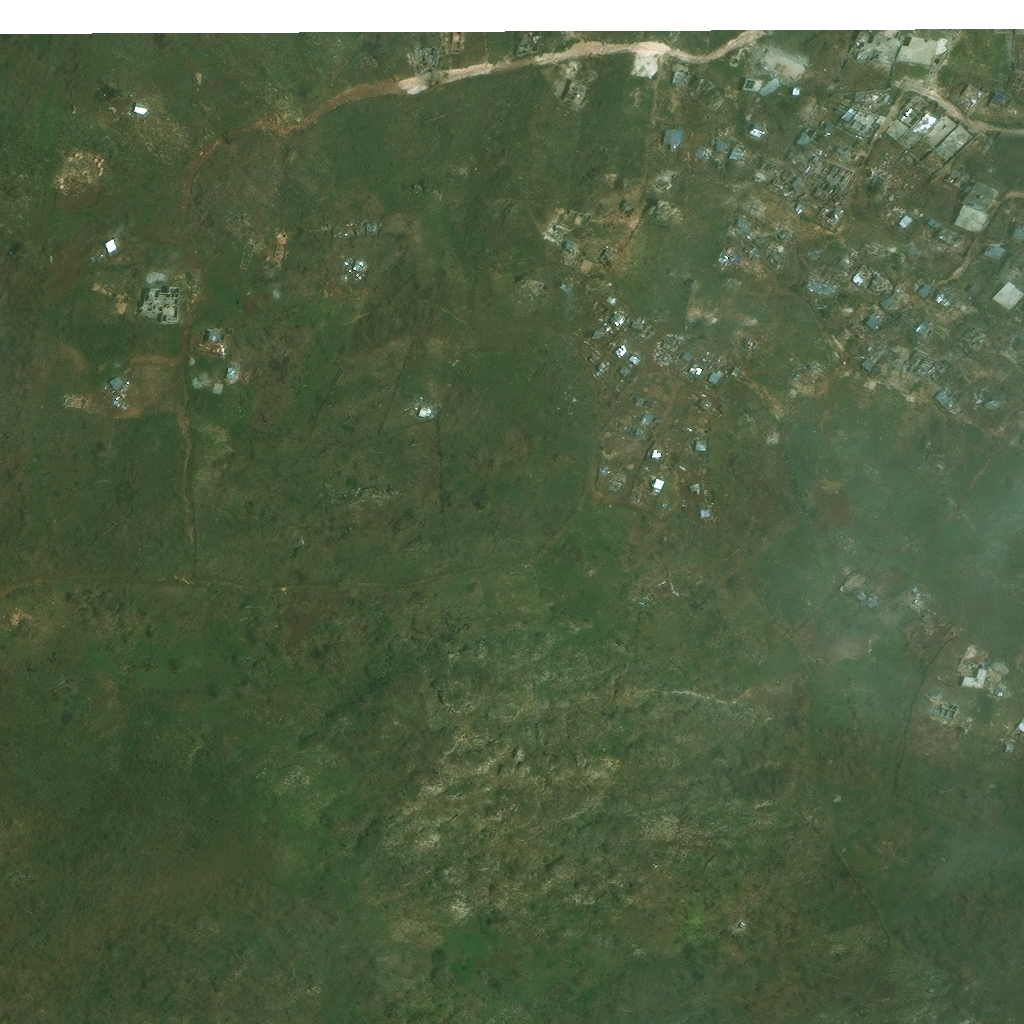destroyed: (811, 268, 838, 291), (891, 263, 914, 289), (795, 171, 818, 193), (12, 608, 34, 631), (835, 298, 856, 320), (807, 123, 828, 142), (840, 252, 860, 271), (878, 164, 896, 185), (765, 155, 786, 173), (810, 238, 828, 259), (662, 169, 681, 188), (810, 146, 829, 163), (844, 183, 861, 202), (337, 273, 354, 292), (764, 406, 782, 423), (913, 237, 930, 255), (759, 334, 777, 350), (822, 100, 837, 119), (709, 351, 726, 366), (834, 235, 850, 250), (750, 254, 765, 269), (722, 249, 737, 263), (362, 253, 377, 267), (767, 240, 780, 254), (664, 589, 677, 603), (717, 559, 730, 573), (846, 574, 859, 588), (792, 380, 804, 393), (755, 234, 768, 246), (678, 463, 689, 476), (604, 246, 615, 258), (749, 389, 759, 398)
major_damage: (851, 34, 902, 64), (849, 103, 885, 132), (925, 353, 956, 379), (930, 386, 954, 410), (682, 54, 701, 83), (958, 329, 980, 354), (914, 619, 938, 638), (859, 88, 891, 102), (250, 281, 270, 301), (869, 275, 888, 293), (434, 43, 450, 62), (624, 209, 640, 226), (761, 119, 777, 135), (909, 597, 924, 614), (734, 139, 747, 157), (865, 592, 880, 606), (423, 43, 434, 55)
minor_damage: (936, 122, 976, 160), (903, 109, 937, 149), (897, 309, 927, 336), (935, 283, 962, 307), (821, 173, 841, 194), (957, 165, 976, 187), (942, 222, 964, 241), (988, 391, 1007, 410), (670, 123, 689, 140), (800, 194, 818, 210), (131, 101, 150, 116), (1009, 220, 1023, 240), (915, 274, 931, 290), (826, 199, 842, 215), (234, 358, 249, 371)
no_damage: (964, 179, 997, 214), (995, 281, 1023, 309), (848, 355, 874, 378), (1004, 251, 1023, 273), (880, 294, 895, 309), (887, 363, 899, 376)
unclassified: (769, 39, 817, 71), (780, 223, 802, 244), (748, 197, 769, 217), (956, 364, 976, 385), (793, 310, 812, 331), (878, 827, 895, 844), (999, 361, 1014, 380), (1008, 433, 1023, 448), (301, 524, 315, 538), (969, 799, 983, 813), (596, 705, 611, 718), (1012, 415, 1023, 431), (814, 334, 826, 347)
